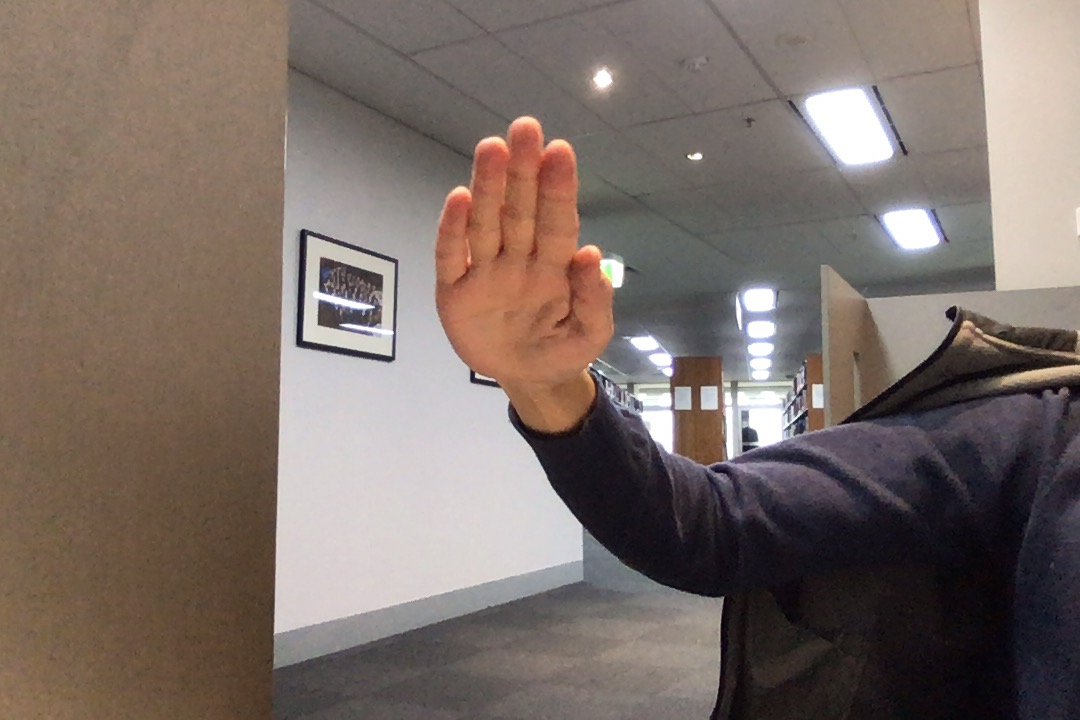palmhand: (426, 108, 626, 398)
